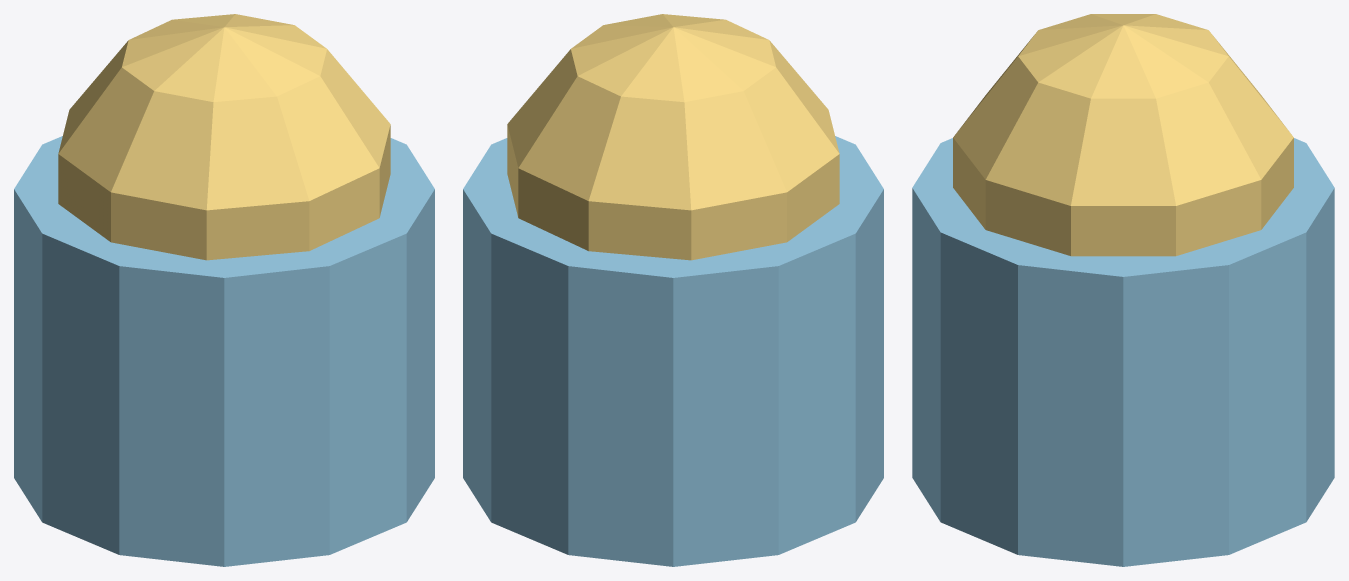
The model's file is int_keranjang.fbx.
The picture shows the model from 3 angles, left to right: view 1: azimuth 30°, elevation 25°; view 2: azimuth 150°, elevation 25°; view 3: azimuth 270°, elevation 25°; orthographic projection.
Parts seen in each view (by area): view 1: int_keranjang; view 2: int_keranjang; view 3: int_keranjang.
Boxes of the visible parts, bbox=[...] form: int_keranjang: bbox=[14, 14, 434, 566]; int_keranjang: bbox=[463, 14, 883, 566]; int_keranjang: bbox=[912, 14, 1334, 566].
Bounding box in the file's own units: 66 × 78 × 66.
1 material, 1 textured.
